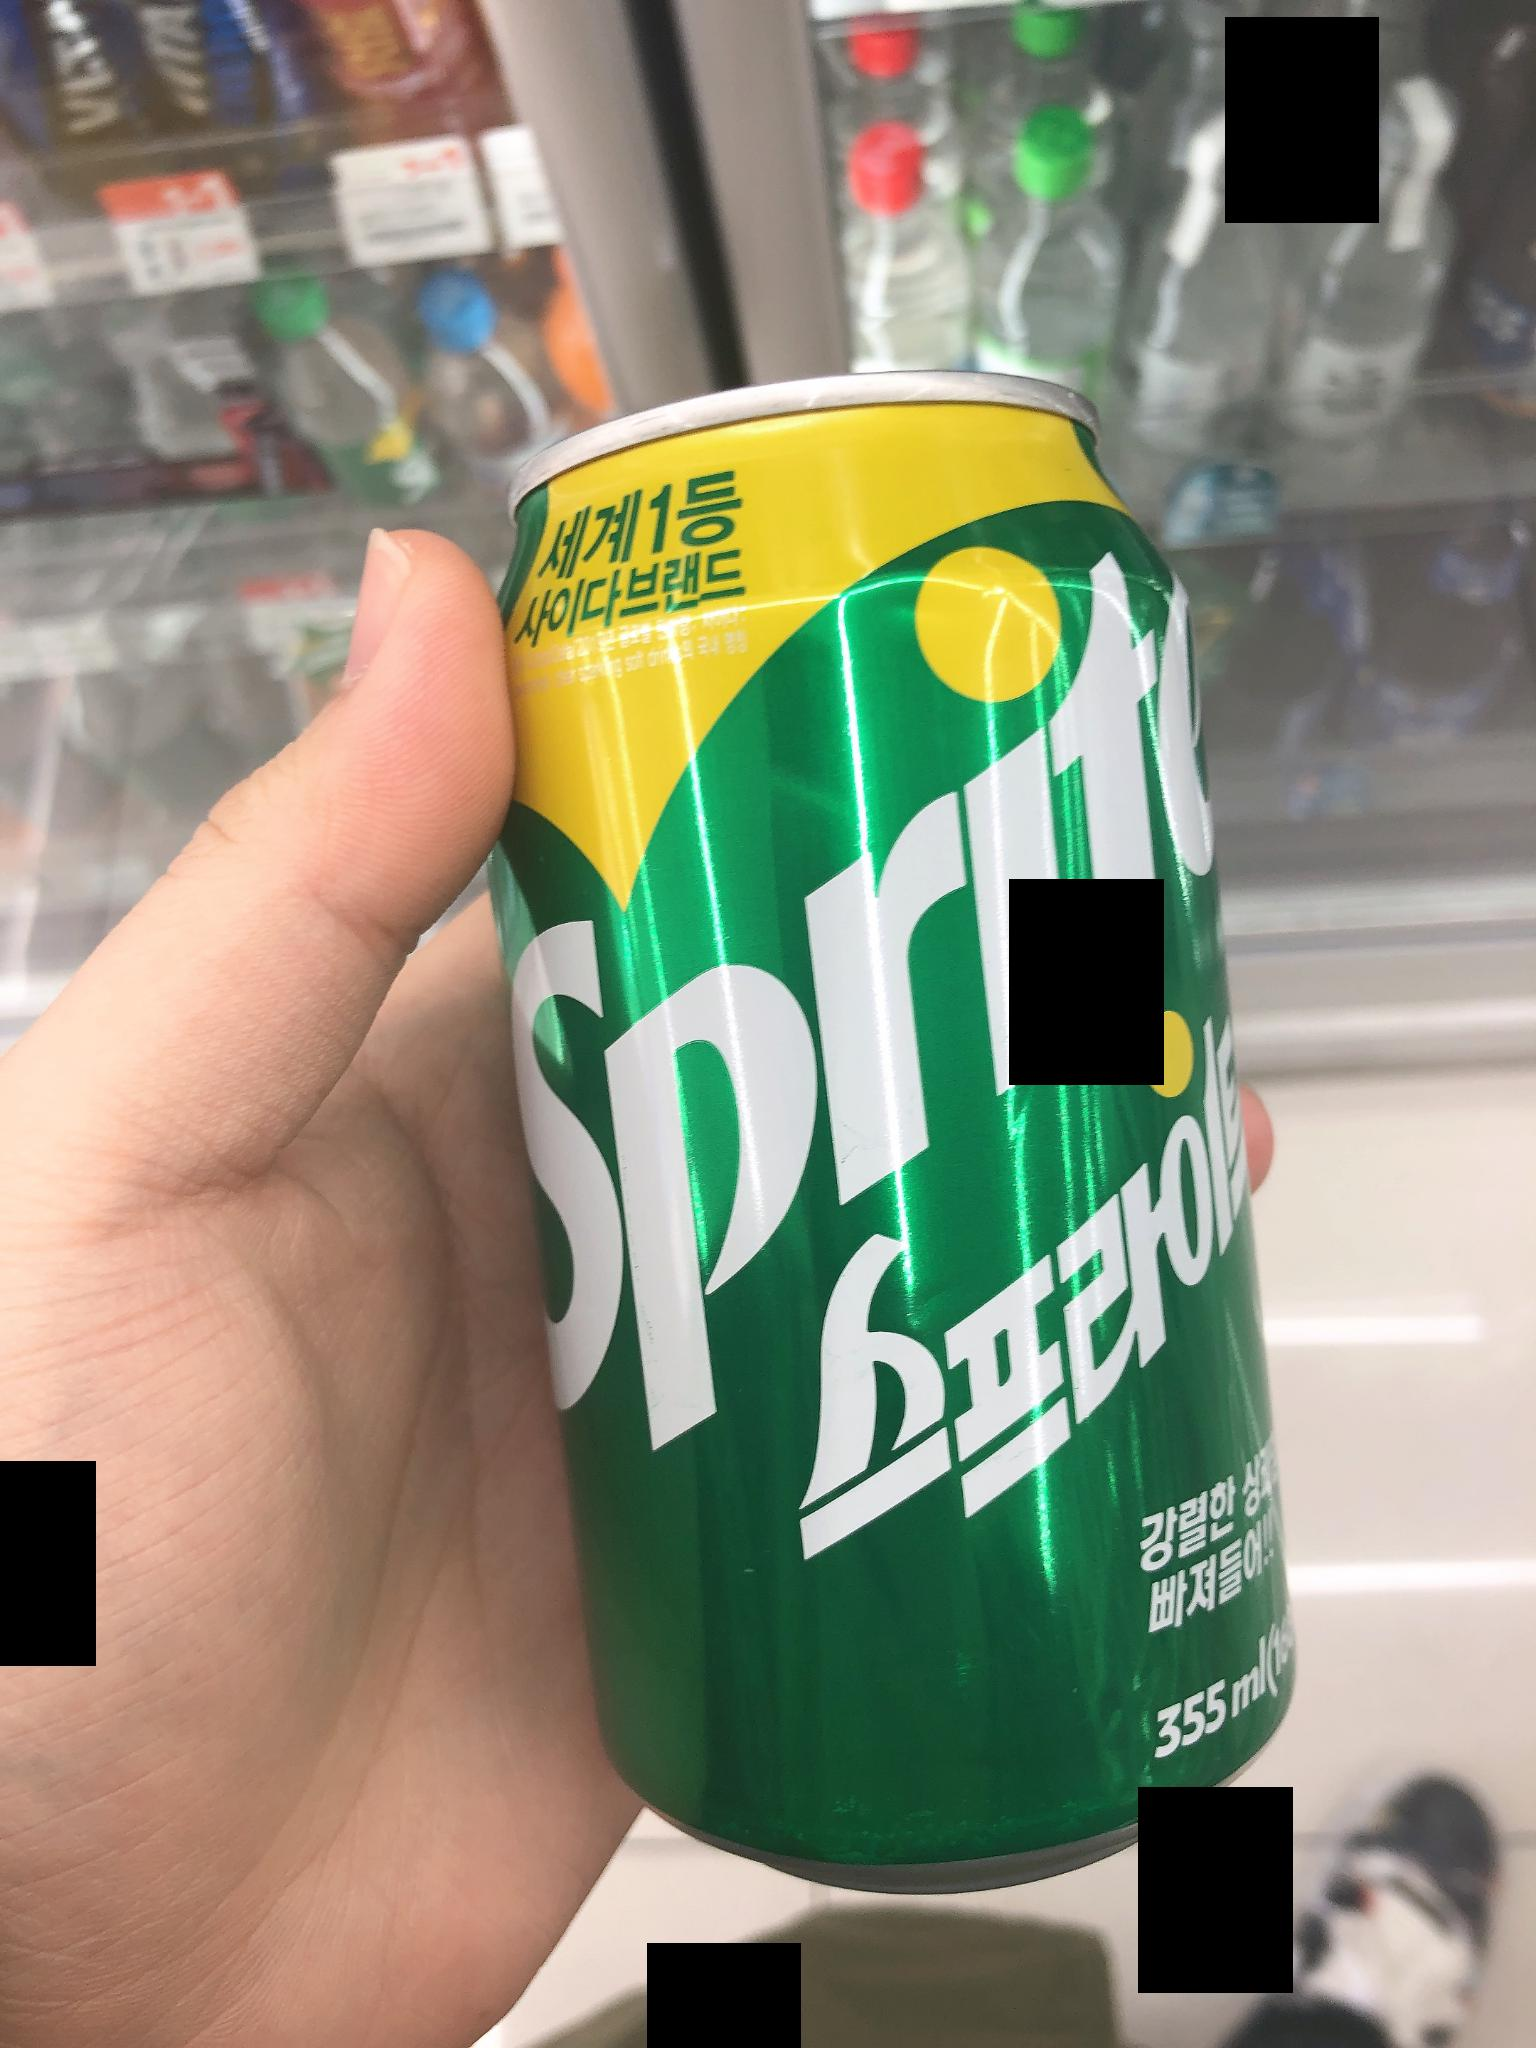sprite: (408, 405, 1392, 1861)
